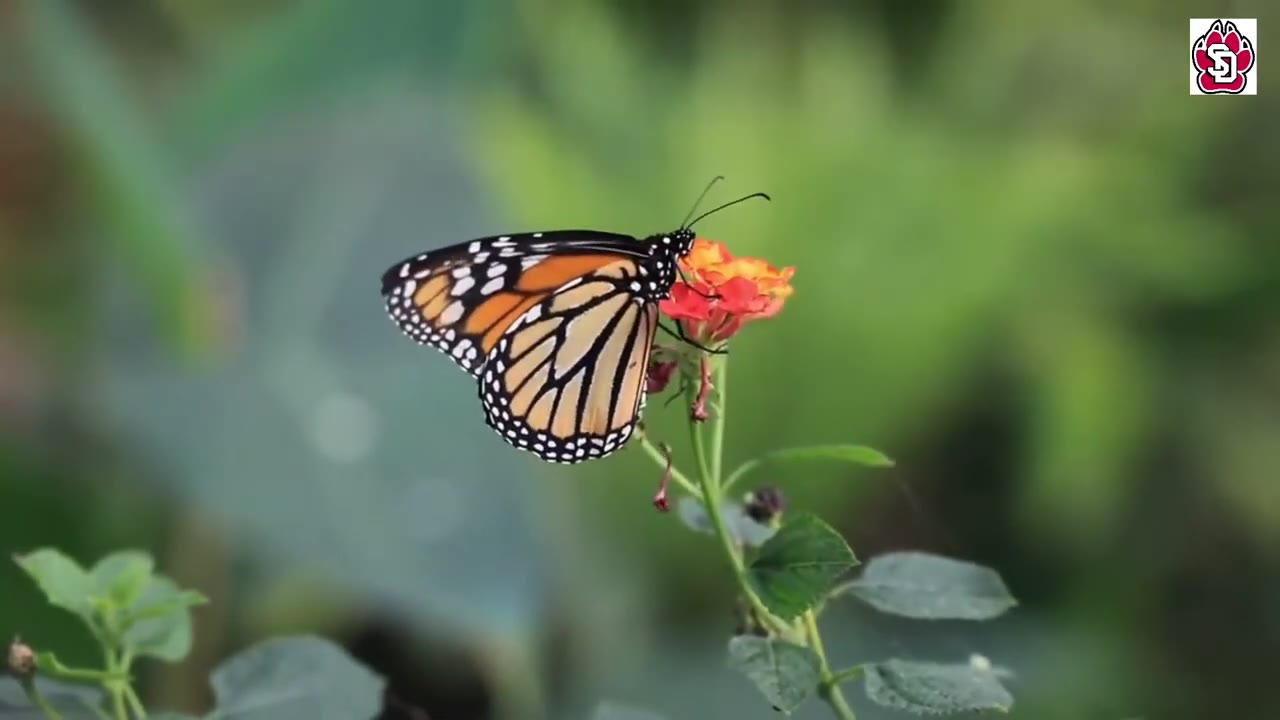Butterfly: (387, 174, 774, 466)
